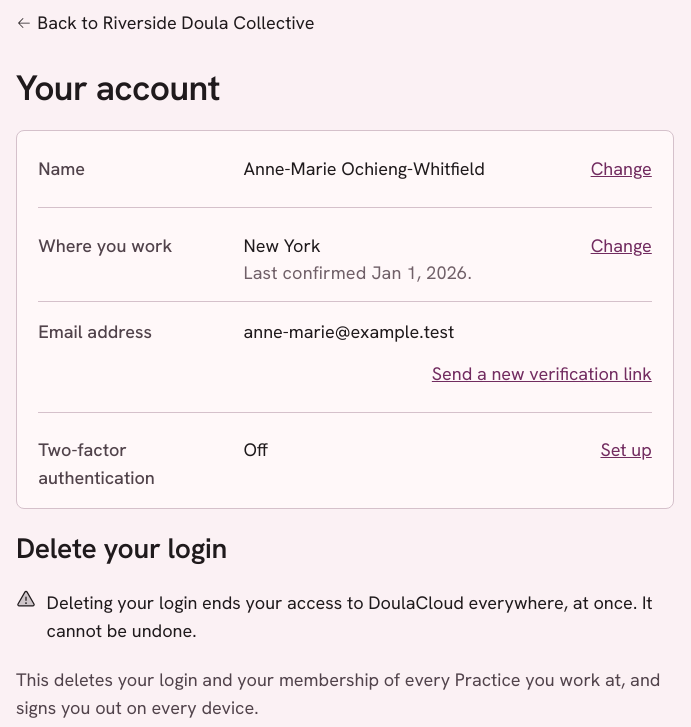
the account summary › owns a resend that never reached the server at all
Click the button "Send a new verification link": click(542, 374) [432,352,652,396]
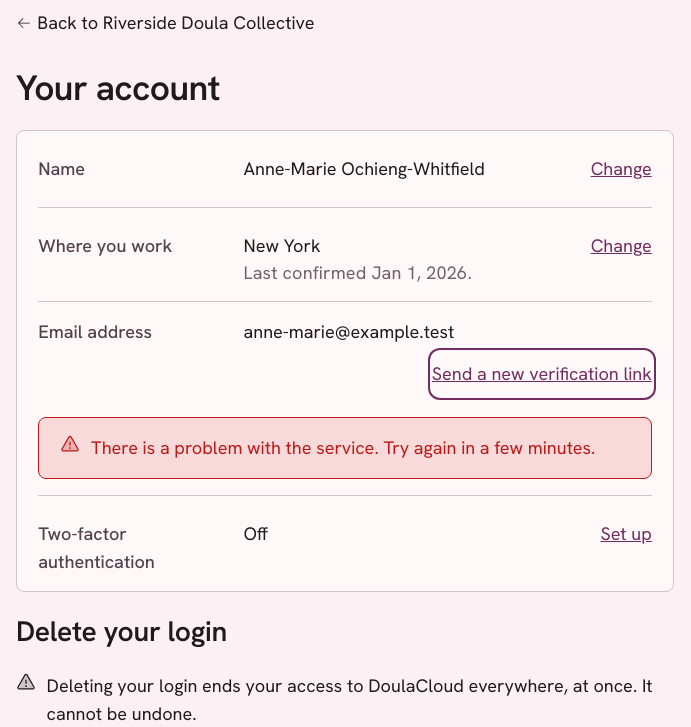
Now the message "There is a problem with the service. Try again in a few minutes." is shown, box [38,417,652,479]
